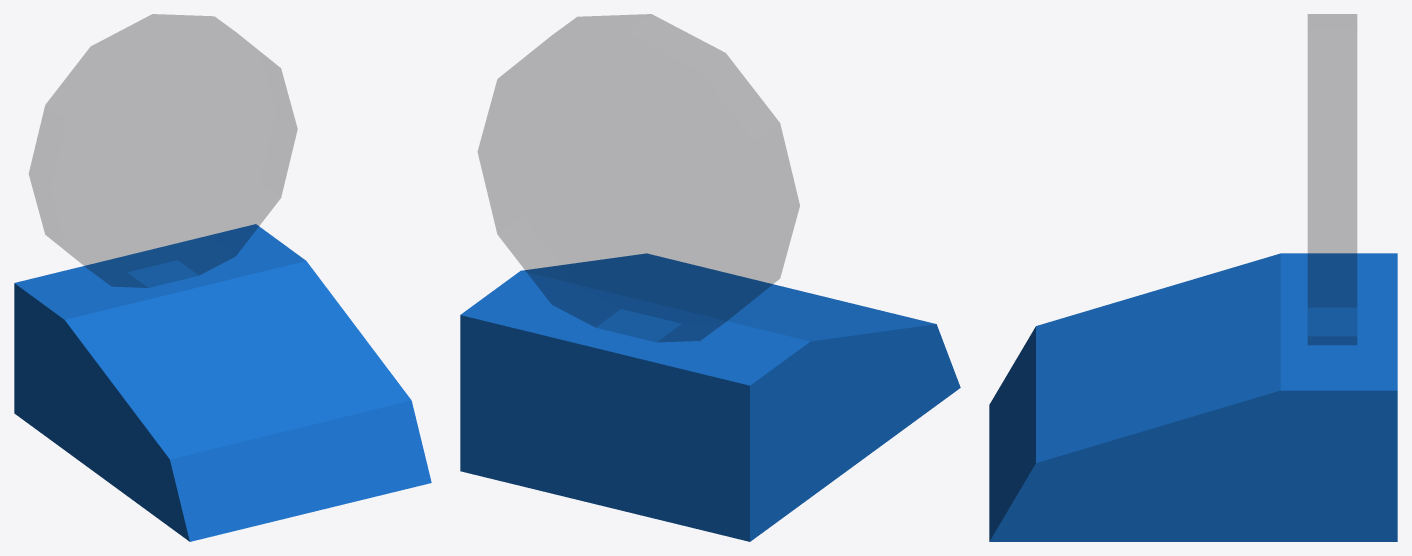
The model's file is arst_reward.fbx.
3 renders of one model, left to right at view 1: azimuth 30°, elevation 25°; view 2: azimuth 150°, elevation 25°; view 3: azimuth 270°, elevation 25°, orthographic. The views are drawn at different scales.
Visible parts, largest first — view 1: Cube_21; view 2: Cube_21; view 3: Cube_21.
Part boxes in pixels (x1,y1,x2,y2): Cube_21: [14, 14, 431, 541]; Cube_21: [460, 14, 960, 541]; Cube_21: [989, 14, 1397, 541].
Size of the model in its own units: 23.23 by 34.26 by 28.53.
